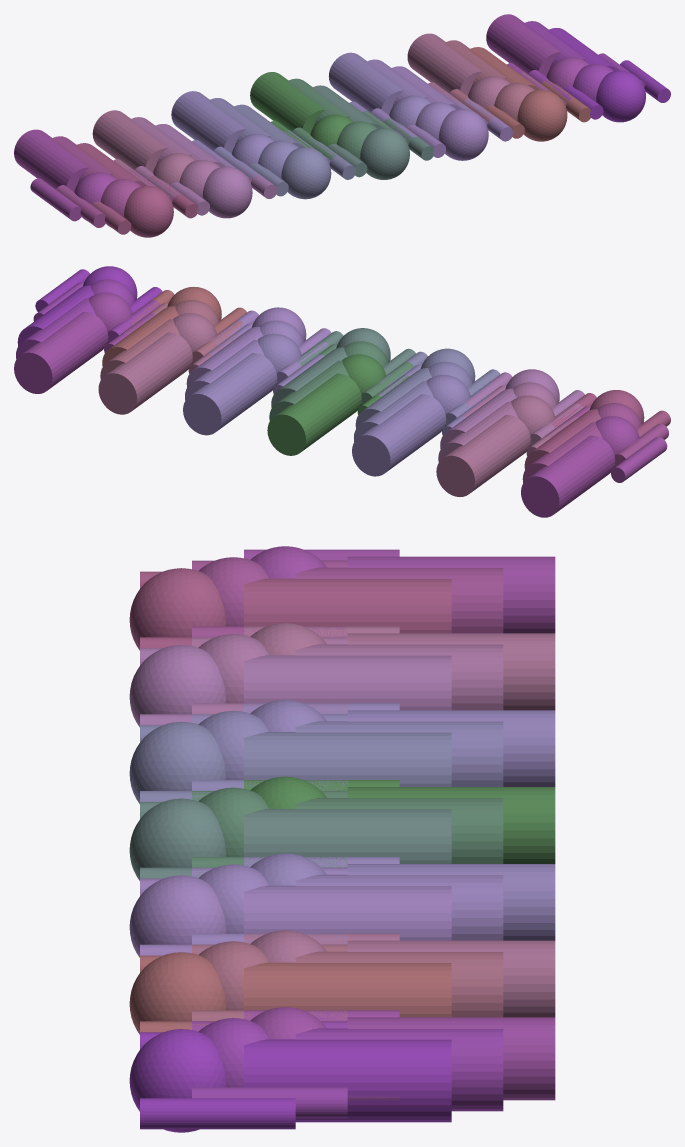
File: crowd.glb
The picture shows the model from 3 angles, top to bottom: view 1: azimuth 30°, elevation 25°; view 2: azimuth 150°, elevation 25°; view 3: azimuth 270°, elevation 25°; orthographic projection. The views are drawn at different scales.
Parts seen in each view (by area): view 1: world; view 2: world; view 3: world.
Boxes of the visible parts, bbox=[...] form: world: bbox=[14, 14, 670, 237]; world: bbox=[14, 266, 670, 517]; world: bbox=[129, 546, 555, 1132].
Size of the model in its own units: 2.56 by 0.2 by 0.82.
